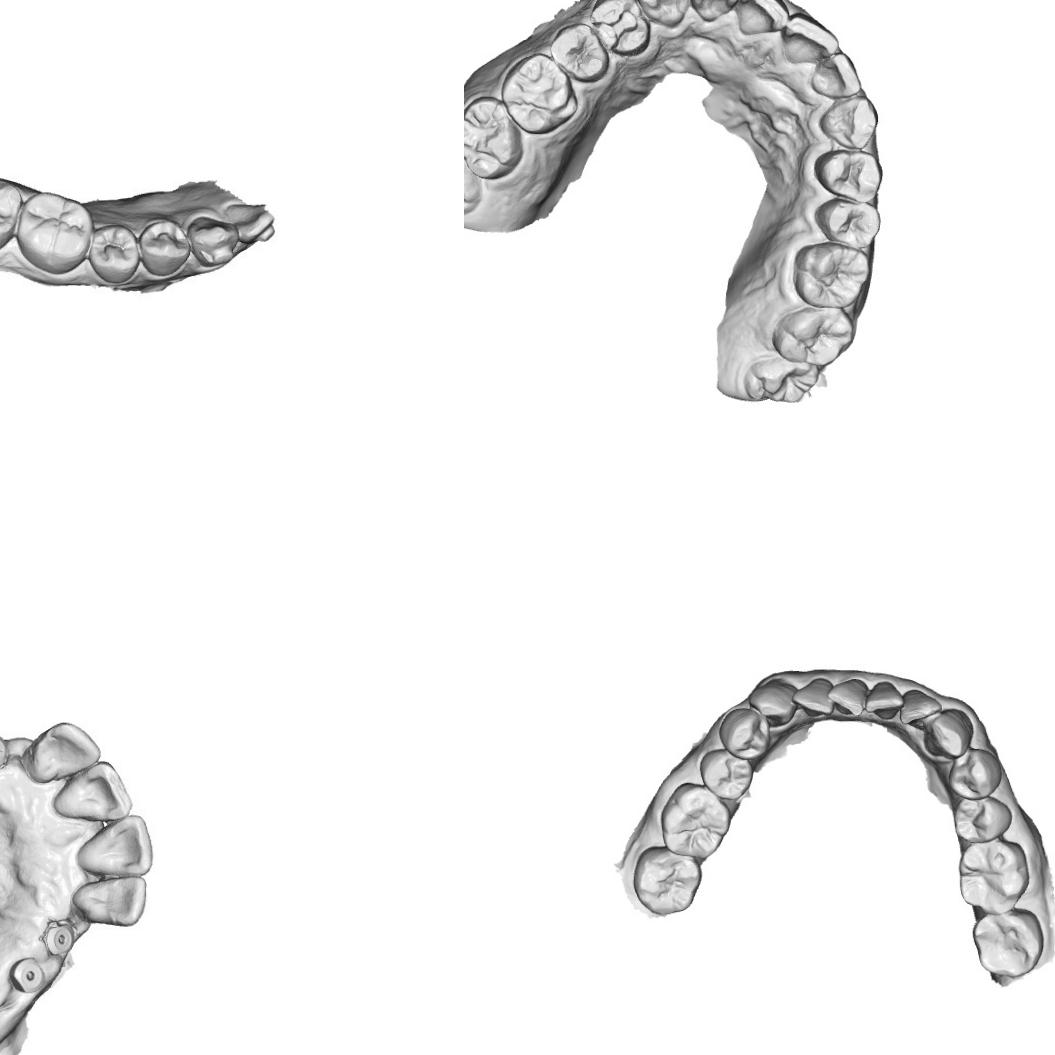canine: (814, 94, 881, 151), (186, 209, 238, 270), (921, 706, 975, 761), (746, 677, 798, 730), (634, 0, 693, 26)
implant: (5, 956, 58, 1002), (43, 923, 78, 958)
implant_plus: (0, 727, 9, 772)
incisor: (74, 875, 151, 933), (54, 766, 126, 822), (84, 820, 151, 878), (30, 724, 95, 780), (780, 12, 838, 66), (808, 50, 863, 102), (731, 0, 791, 37), (789, 676, 834, 719), (230, 200, 276, 242), (898, 686, 944, 726), (825, 676, 868, 718), (863, 678, 904, 720), (688, 0, 741, 25)
inlay: (589, 3, 640, 52)
molar: (498, 52, 578, 137), (18, 193, 94, 274), (789, 239, 874, 310), (658, 780, 732, 860), (768, 304, 856, 370), (956, 838, 1030, 916), (464, 93, 526, 182), (970, 909, 1046, 980), (630, 844, 702, 917), (0, 171, 21, 255)
premolar: (811, 148, 887, 202), (546, 21, 610, 84), (814, 195, 883, 250), (88, 222, 140, 286), (716, 706, 773, 761), (952, 794, 1014, 844), (698, 747, 754, 802), (946, 747, 1003, 801), (142, 222, 188, 278)
